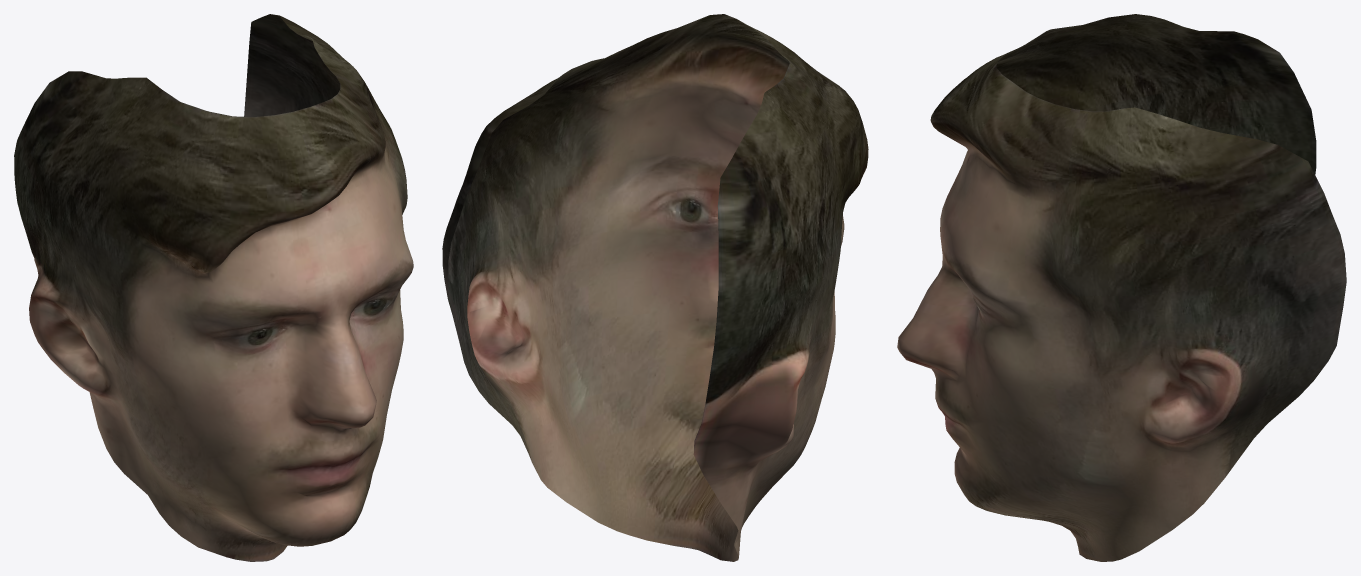
File: headScanLow.glb
3 renders of one model, left to right at view 1: azimuth 30°, elevation 25°; view 2: azimuth 150°, elevation 25°; view 3: azimuth 270°, elevation 25°, orthographic. The views are drawn at different scales.
Visible parts, largest first — view 1: Node; view 2: Node; view 3: Node.
Boxes of the visible parts, bbox=[...] form: Node: bbox=[14, 14, 413, 561]; Node: bbox=[442, 14, 868, 561]; Node: bbox=[897, 14, 1346, 561].
Size of the model in its own units: 176 by 254 by 211.
Materials: 1 (1 with a texture image).
